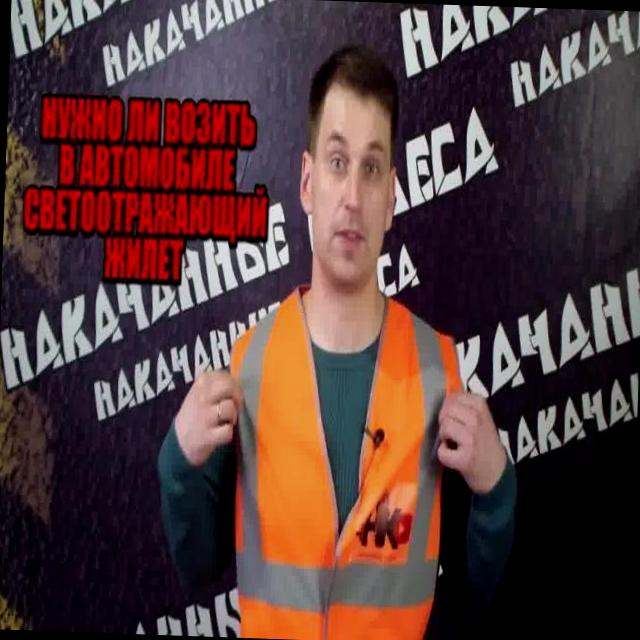no-gloves: (432, 386, 514, 495), (174, 370, 244, 446)
no-helmet: (293, 43, 404, 281)
vest: (215, 303, 458, 640)
